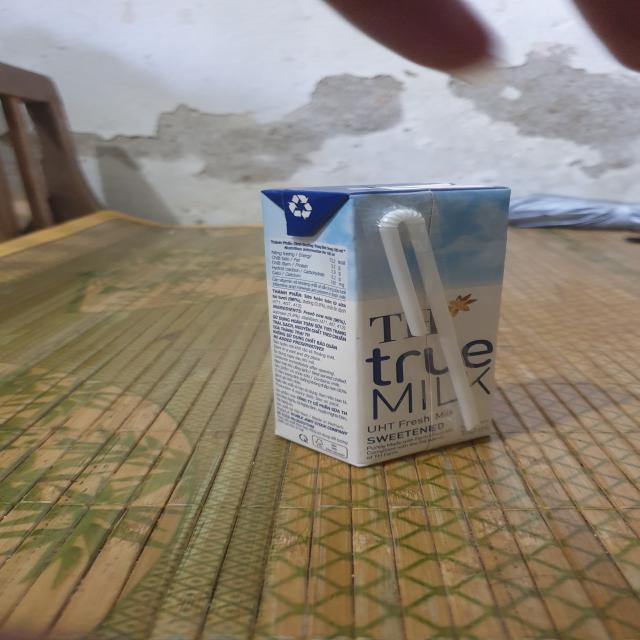TH: (263, 184, 509, 469)
